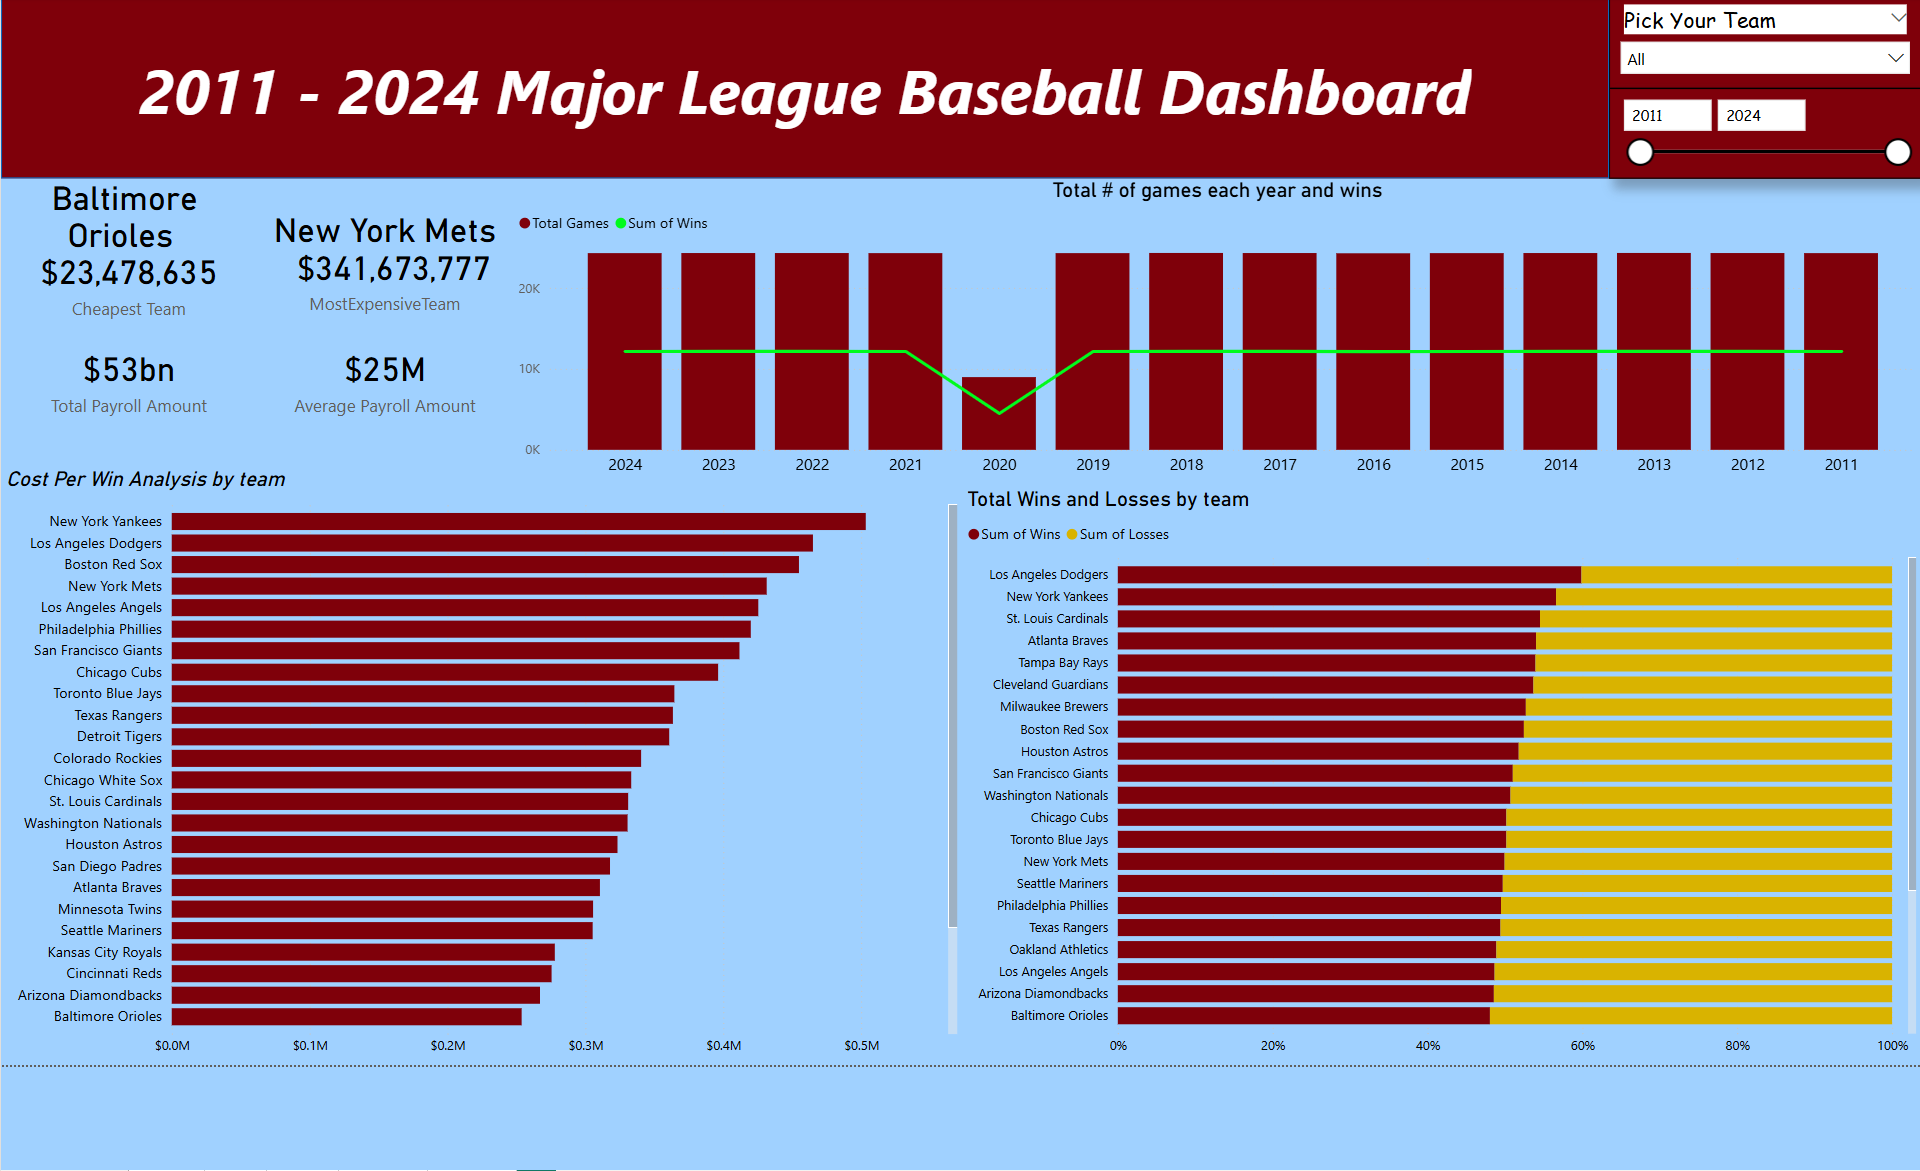

The dashboard page shown, as its layout file describes it:
{"tool":"powerbi","page":{"name":"Page 1","canvas":[1800,1000],"ordinal":0},"visuals":[{"type":"card","fields":{"Values":["Sum(mlb_payrolls.Payroll Amount)"]},"box":[0,271.3,240,168],"z":0},{"type":"card","fields":{"Values":["Avg(mlb_payrolls.Payroll Amount)"]},"box":[240,271.3,240,168],"z":1000},{"type":"card","fields":{"Values":["Measures (2).Most Expensive Team"]},"box":[240,159.7,240,168],"z":2000},{"type":"card","fields":{"Values":["Measures (2).Cheapest Team"]},"box":[0,146.1,240,168],"z":3000},{"type":"slicer","fields":{"Values":["mlb_payrolls.Team Name"]},"box":[1506.8,0,293.2,84.5],"z":4000},{"type":"slicer","fields":{"Values":["mlb_payrolls.Year"]},"box":[1506.8,84.5,293.2,84.5],"z":5000},{"type":"clusteredBarChart","title":"Cost Per Win Analysis by team","fields":{"Category":["mlb_payrolls.Team Name"],"Y":["Measures (2).CostPerWin"]},"box":[0,439.3,900.5,560.3],"z":6000},{"type":"hundredPercentStackedBarChart","title":"Total Wins and Losses by team","fields":{"Category":["mlb_payrolls.Team Name"],"Y":["Sum(mlb_payrolls.Wins)","Sum(mlb_payrolls.Losses)"]},"box":[900.5,458.1,899.5,541.6],"z":7000},{"type":"shape","box":[0,0,1506.8,169],"z":8000},{"type":"lineClusteredColumnComboChart","title":"Total # of games each year and wins","fields":{"Y":["Measures (2).Total Games"],"Y2":["Sum(mlb_payrolls.Wins)"],"Category":["mlb_payrolls.Year"]},"box":[480,169,1320,289],"z":9000}]}

Visuals, with their boxes on the page's 1800x1000 design canvas (x1, y1, x2, y2). These are canvas units, not pixel positions in the 1920x1171 screenshot, which may show the page scaled, cropped or inside an application window:
card - Sum(mlb_payrolls.Payroll Amount): select_region(0, 271, 240, 439)
card - Avg(mlb_payrolls.Payroll Amount): select_region(240, 271, 480, 439)
card - Measures (2).Most Expensive Team: select_region(240, 160, 480, 328)
card - Measures (2).Cheapest Team: select_region(0, 146, 240, 314)
slicer - mlb_payrolls.Team Name: select_region(1507, 0, 1800, 84)
slicer - mlb_payrolls.Year: select_region(1507, 84, 1800, 169)
"Cost Per Win Analysis by team" clusteredBarChart: select_region(0, 439, 900, 1000)
"Total Wins and Losses by team" hundredPercentStackedBarChart: select_region(900, 458, 1800, 1000)
shape: select_region(0, 0, 1507, 169)
"Total # of games each year and wins" lineClusteredColumnComboChart: select_region(480, 169, 1800, 458)
